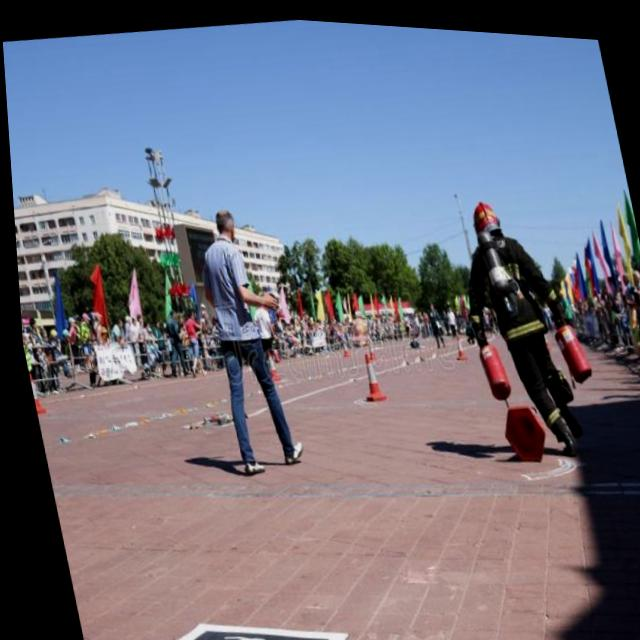FireExtinguisher: (457, 304, 514, 404), (542, 301, 593, 386)
